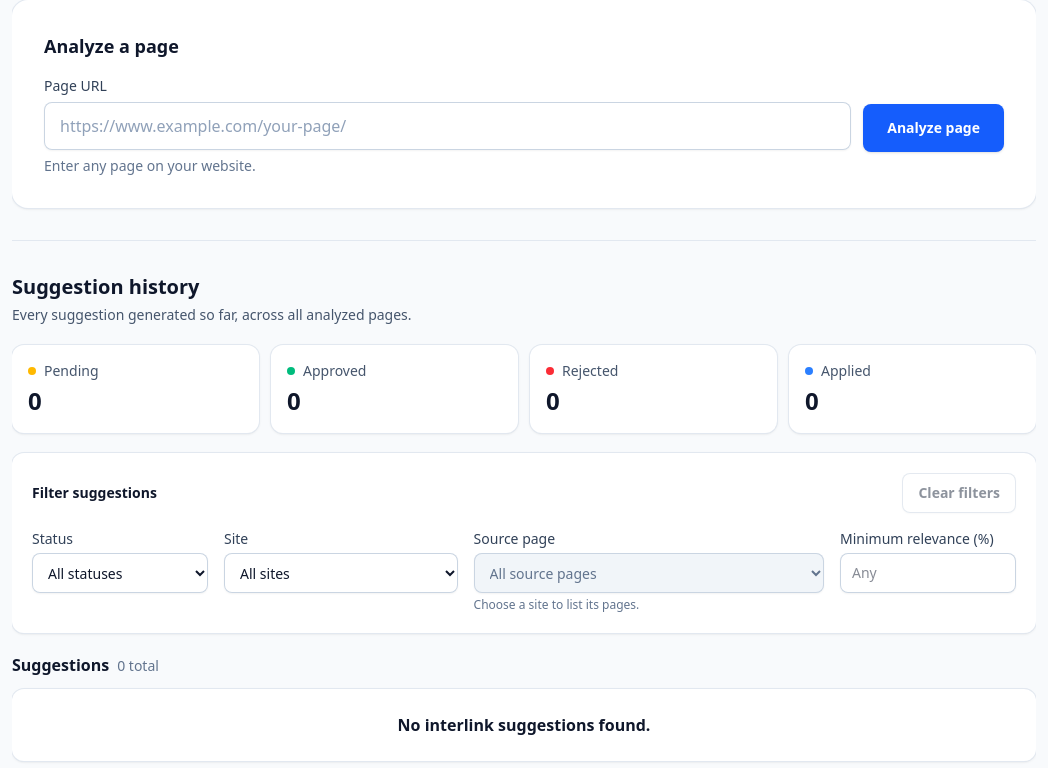
Test case: analysis results › says so when no opportunities were found
Type "https://example.test/healthcare-chatbots/" into the field labelled "Page URL" at (448,126), box [44,102,851,150]
Then press Enter
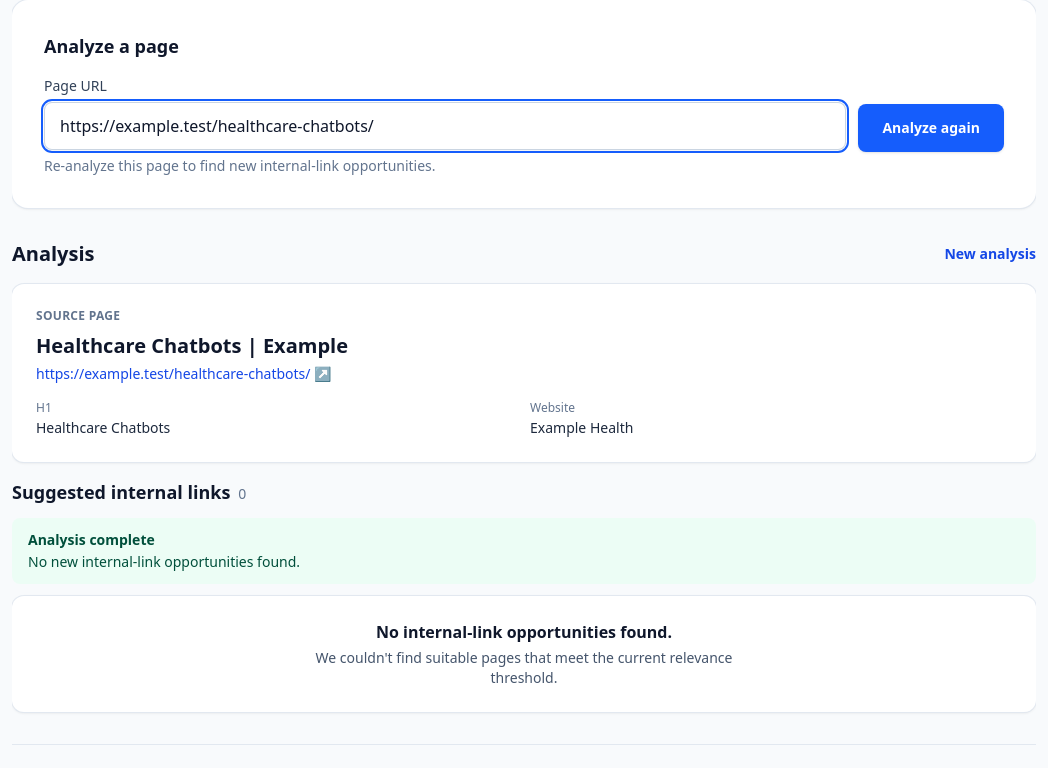
Expected: the text "No internal-link opportunities found." is shown, [376,621,672,643]
Expected: the text "We couldn't find suitable pages that meet the current relevance threshold." is shown, [300,648,748,688]
